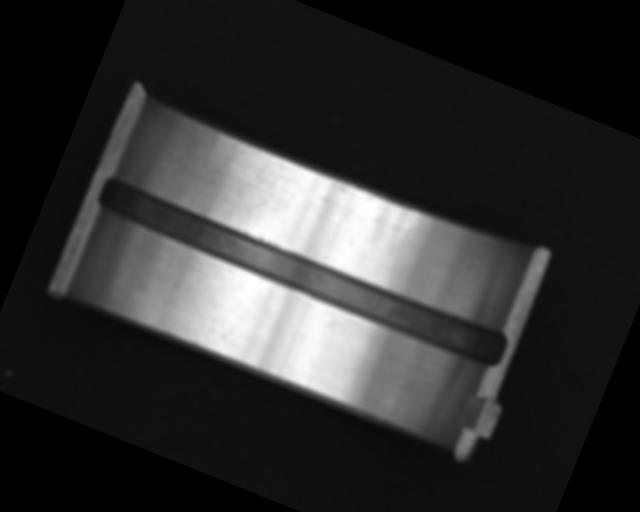gap: (91, 169, 514, 373)
